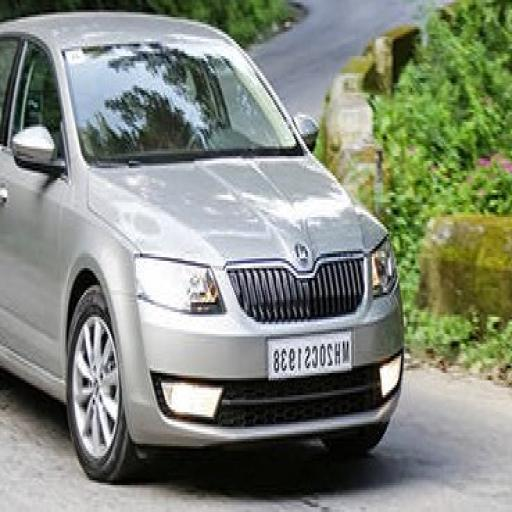License: (269, 326, 354, 376)
